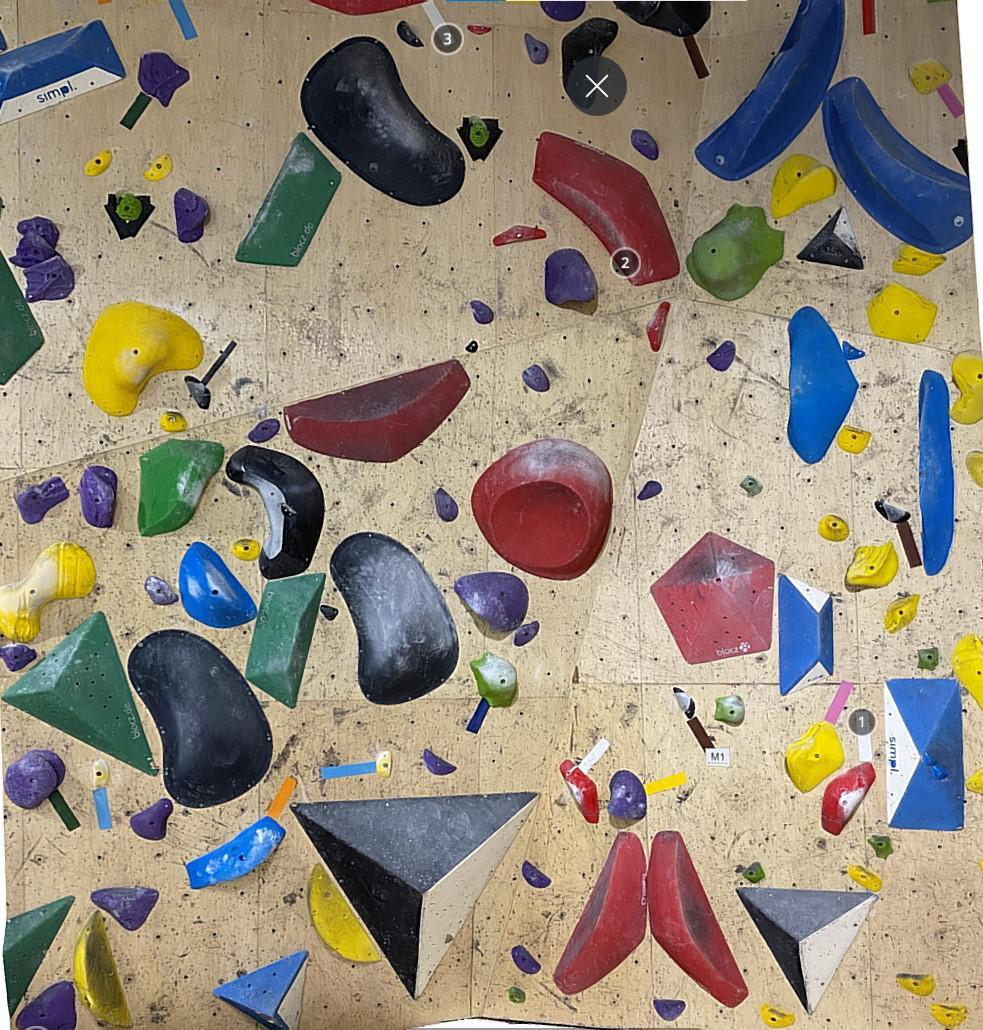hold: (291, 791, 541, 1000), (301, 36, 465, 205), (695, 0, 845, 181), (821, 77, 974, 253), (128, 629, 273, 807), (1, 611, 157, 775), (533, 132, 680, 284), (330, 532, 459, 705), (472, 439, 613, 579), (284, 360, 470, 462), (736, 887, 878, 1015), (647, 830, 749, 1008), (651, 532, 775, 665), (554, 832, 647, 995), (235, 132, 341, 267), (83, 301, 204, 416), (0, 19, 125, 126), (226, 445, 325, 580), (884, 678, 964, 830), (788, 306, 859, 464), (246, 572, 325, 708), (686, 203, 784, 302), (0, 542, 96, 643), (3, 895, 75, 1018), (137, 439, 224, 536), (212, 949, 309, 1030), (919, 369, 954, 576), (308, 863, 381, 962), (187, 816, 286, 889), (73, 909, 132, 1027), (778, 573, 833, 695), (179, 542, 257, 628), (0, 248, 43, 384), (561, 17, 619, 109), (454, 571, 529, 632), (771, 153, 837, 219), (867, 280, 937, 342), (797, 206, 864, 269), (786, 721, 843, 793), (821, 762, 876, 835), (4, 750, 66, 809), (613, 1, 712, 37), (16, 980, 77, 1030), (91, 886, 159, 930), (545, 249, 597, 306), (138, 52, 189, 107), (470, 651, 517, 707), (15, 476, 68, 524), (560, 759, 599, 824), (104, 191, 155, 240), (951, 633, 983, 711), (846, 541, 899, 588), (23, 254, 74, 302), (950, 351, 983, 424), (80, 466, 117, 528), (457, 115, 503, 161), (307, 0, 429, 16), (608, 771, 647, 820), (174, 188, 208, 242), (891, 243, 947, 275), (130, 798, 172, 840), (10, 230, 56, 268), (908, 58, 952, 94), (884, 593, 921, 632), (18, 217, 59, 248), (647, 301, 670, 352), (493, 225, 547, 246), (145, 576, 178, 606), (837, 425, 871, 453), (849, 863, 883, 891), (0, 644, 36, 670), (541, 1, 585, 22), (896, 973, 936, 996), (930, 1003, 968, 1027), (760, 1003, 796, 1028), (707, 340, 736, 371), (424, 748, 457, 775), (185, 375, 211, 409), (631, 129, 658, 161), (714, 694, 744, 722), (144, 153, 173, 181), (522, 860, 551, 888), (875, 501, 911, 523), (397, 20, 425, 48), (522, 364, 550, 392), (512, 945, 540, 973), (435, 488, 458, 522), (819, 515, 849, 541), (249, 418, 280, 442), (524, 33, 547, 65), (653, 1000, 686, 1022), (85, 149, 111, 176), (965, 450, 983, 489), (230, 538, 261, 560), (868, 835, 894, 861), (673, 687, 694, 717), (514, 621, 539, 646), (159, 411, 188, 432), (92, 758, 110, 791), (917, 647, 939, 672), (470, 300, 493, 323), (965, 767, 983, 796), (742, 861, 765, 883), (740, 475, 762, 496), (842, 340, 865, 359), (376, 751, 392, 778), (638, 481, 662, 499), (507, 986, 526, 1003), (467, 24, 492, 36), (321, 605, 338, 621), (931, 764, 949, 779), (922, 750, 938, 766), (280, 503, 296, 519), (0, 29, 7, 54), (466, 341, 478, 352), (0, 196, 4, 221), (980, 858, 983, 873)
